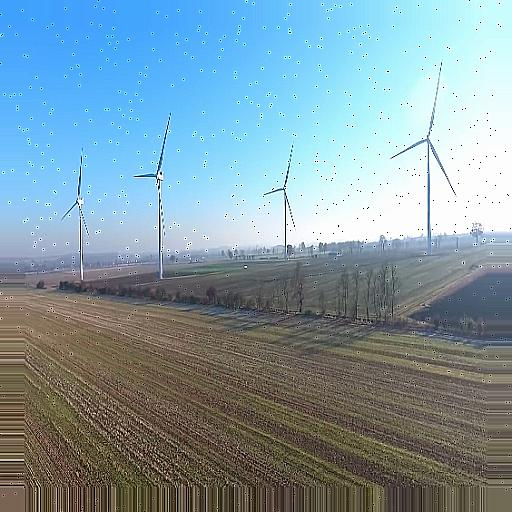wind turbine: (389, 58, 459, 250), (134, 110, 172, 277), (61, 146, 91, 281), (262, 142, 299, 251)
